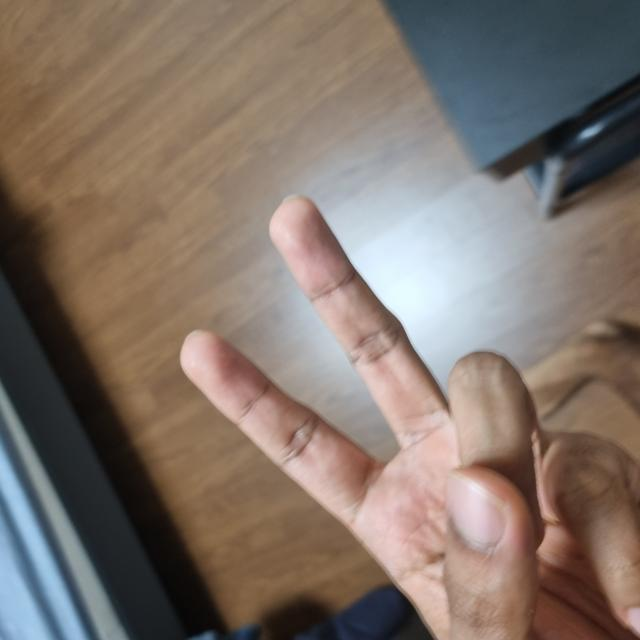Scissors: (0, 363, 202, 637)
